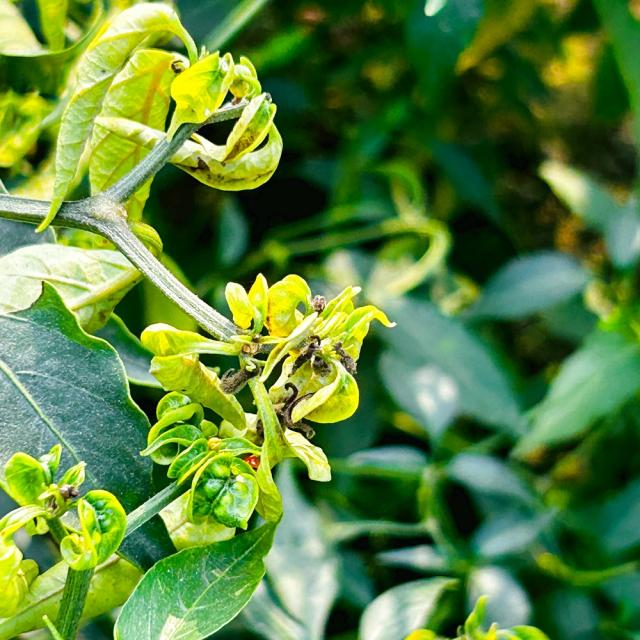Chilli_Leaf_Curl: (1, 1, 396, 638), (4, 1, 283, 342), (138, 272, 396, 542), (0, 443, 128, 637), (111, 514, 282, 638)
